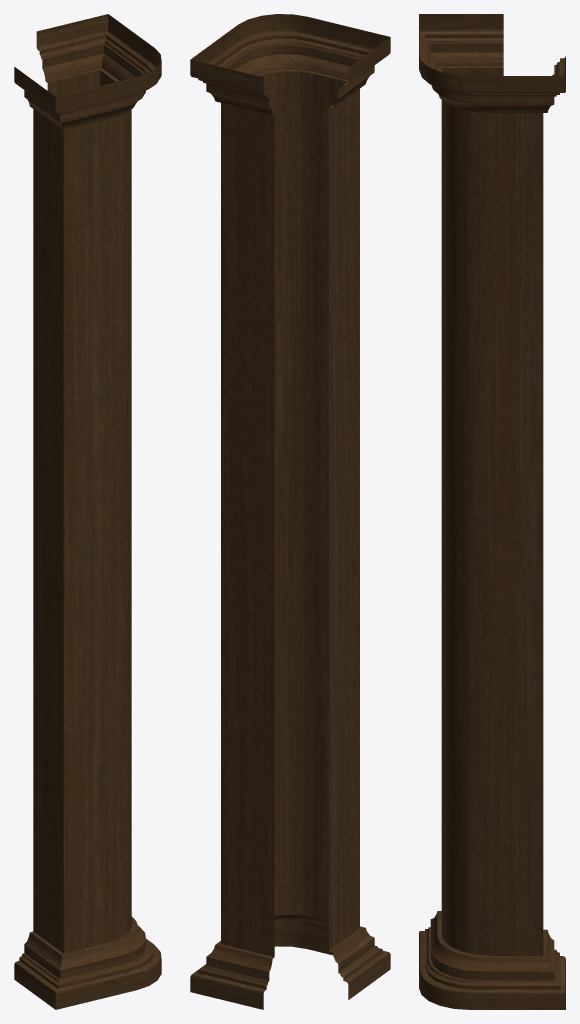
The model's file is Corner.fbx.
3 renders of one model, left to right at view 1: azimuth 30°, elevation 25°; view 2: azimuth 150°, elevation 25°; view 3: azimuth 270°, elevation 25°, orthographic. The views are drawn at different scales.
Parts seen in each view (by area): view 1: Corner; view 2: Corner; view 3: Corner.
Boxes of the visible parts, x1,y1,x2,y2 form: Corner: [14, 14, 161, 1009]; Corner: [190, 14, 390, 1009]; Corner: [419, 14, 565, 1009].
Size of the model in its own units: 1 by 7.02 by 1.
